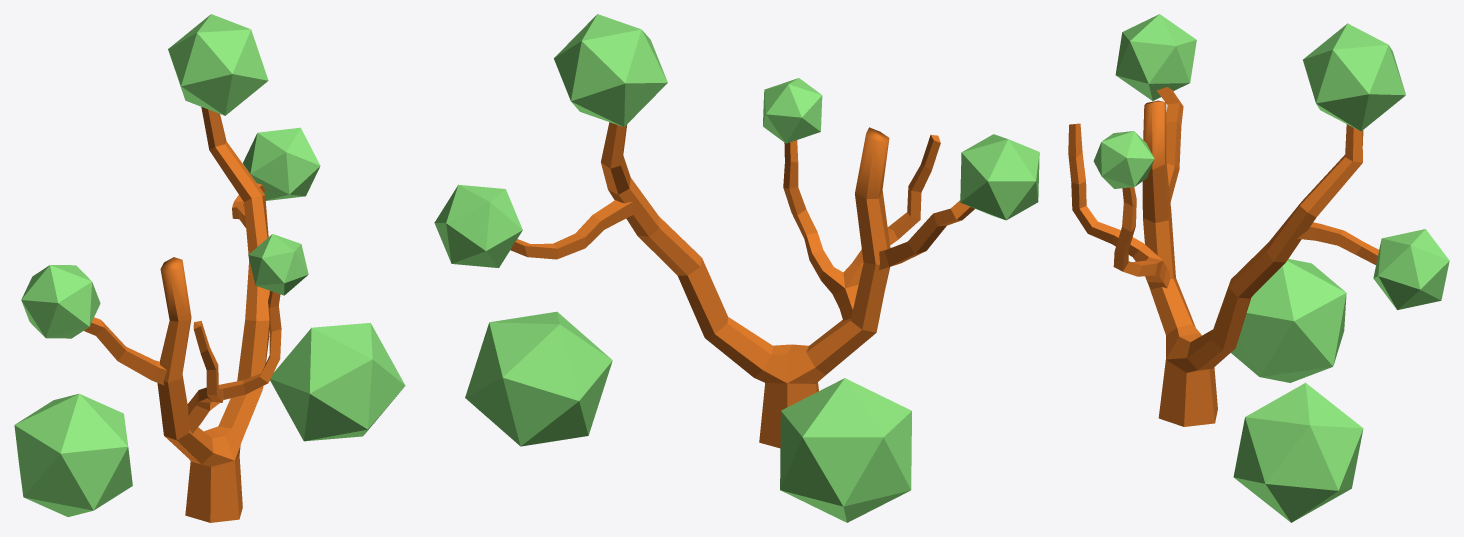
Rendered from tree_Medium.fbx.
3 views of the same model, side by side, from view 1: azimuth 30°, elevation 25°; view 2: azimuth 150°, elevation 25°; view 3: azimuth 270°, elevation 25° (orthographic). The views are drawn at different scales.
Visible parts, largest first — view 1: Tree_lp_11.001, Tree_lp_11; view 2: Tree_lp_11.001, Tree_lp_11; view 3: Tree_lp_11.001, Tree_lp_11.
Boxes of the visible parts, x1=… form: Tree_lp_11.001: x1=14, y1=14, x2=405, y2=516; Tree_lp_11: x1=84, y1=107, x2=281, y2=522; Tree_lp_11.001: x1=434, y1=14, x2=1039, y2=522; Tree_lp_11: x1=510, y1=122, x2=974, y2=448; Tree_lp_11.001: x1=1093, y1=14, x2=1449, y2=522; Tree_lp_11: x1=1068, y1=87, x2=1378, y2=426.
Bounding box in the file's own units: 2437 × 2286 × 1802.
